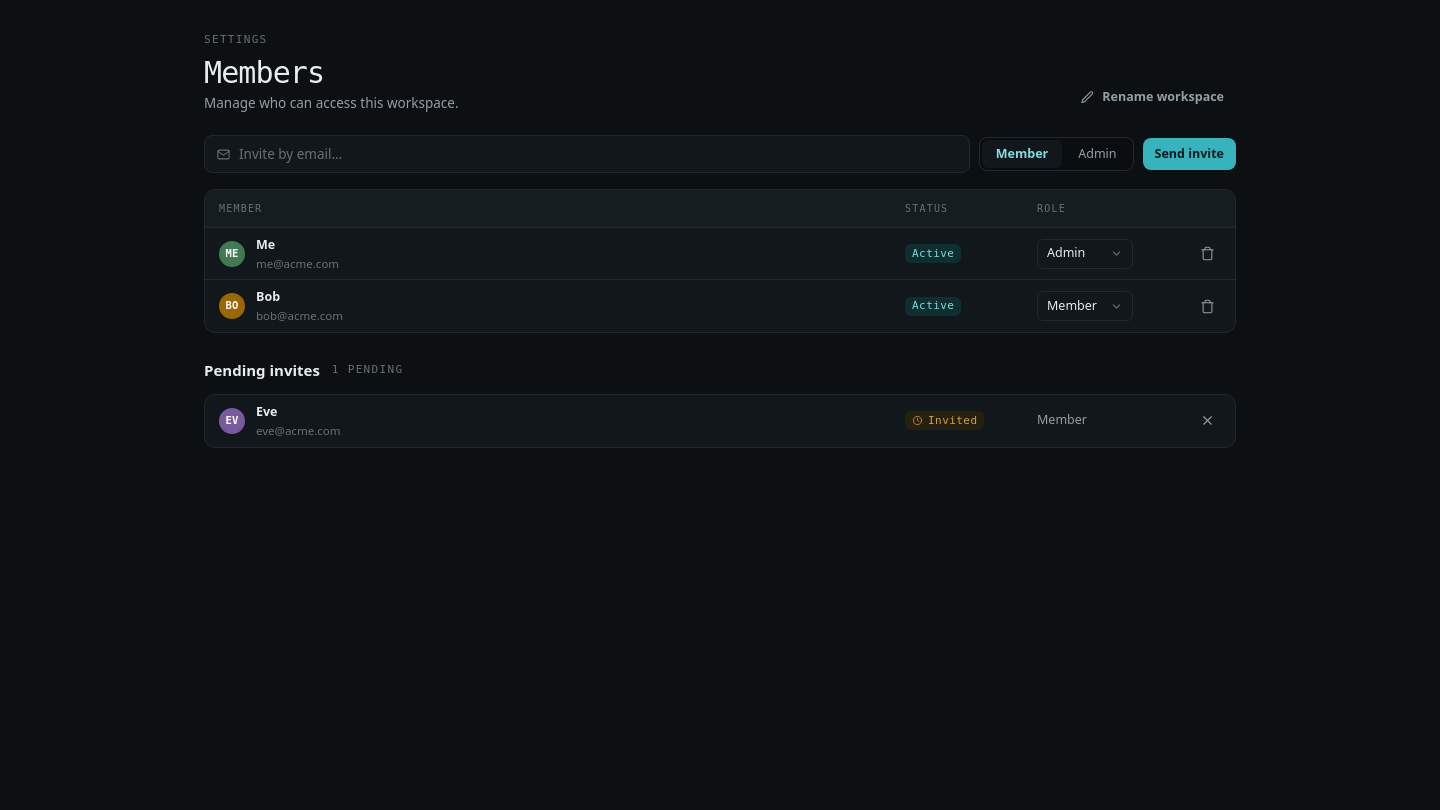
Test: workspaces-ui S-003 — members screen › AS-009: the admin removes a member (after confirming in the AlertDialog)
The width and height of the screenshot is (1440, 810).
Expected: the element with test id "member-row-u-bob" is shown, x1=205 y1=280 x2=1235 y2=332
The trash icon opens a confirm dialog — it does NOT delete on its own.
Click the button with test id "remove-u-bob".
click(1207, 306)  # box x1=1193 y1=292 x2=1221 y2=320
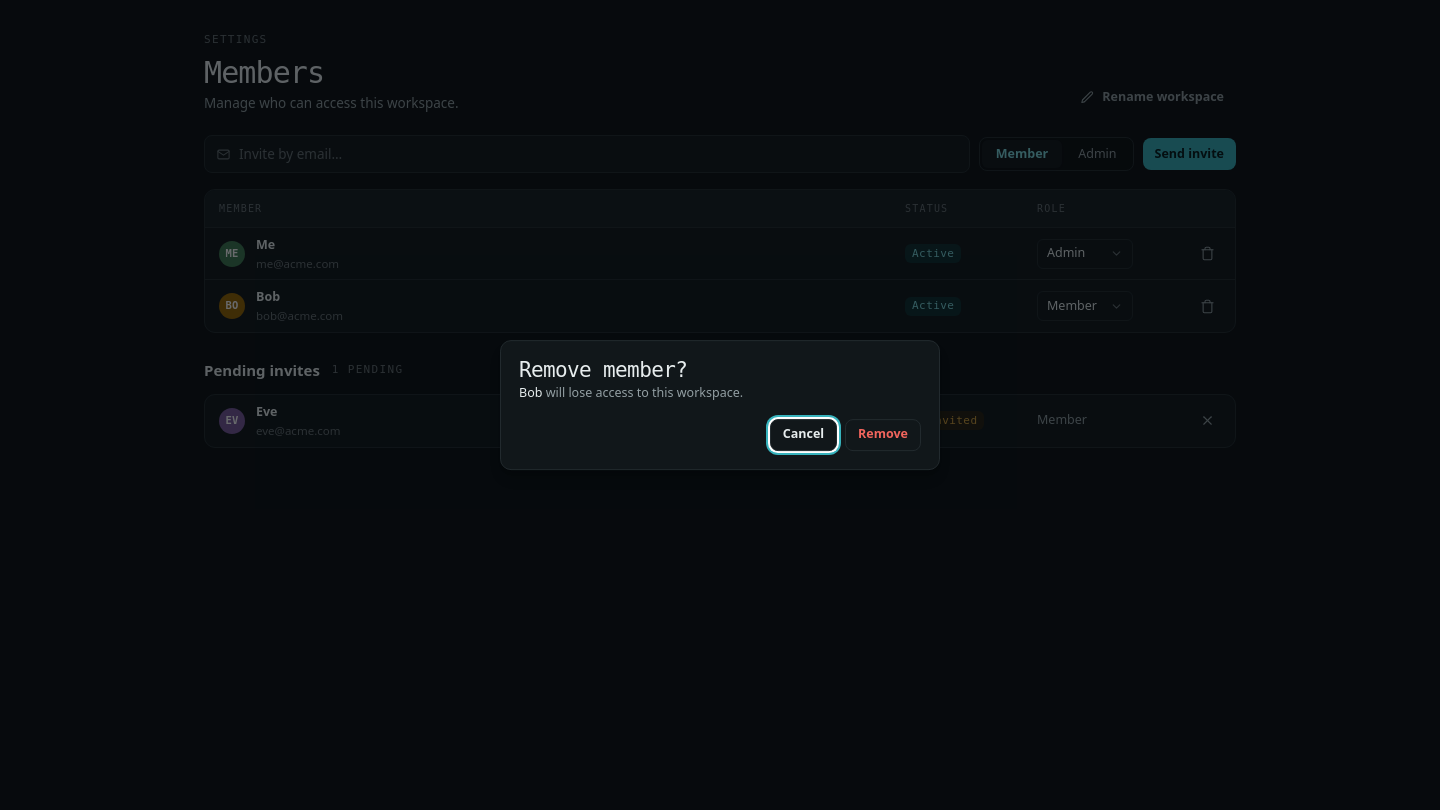
Only the destructive "Remove" action in the dialog runs the mutation.
Click the button with test id "remove-confirm-u-bob".
click(883, 435)  # box x1=845 y1=419 x2=921 y2=451
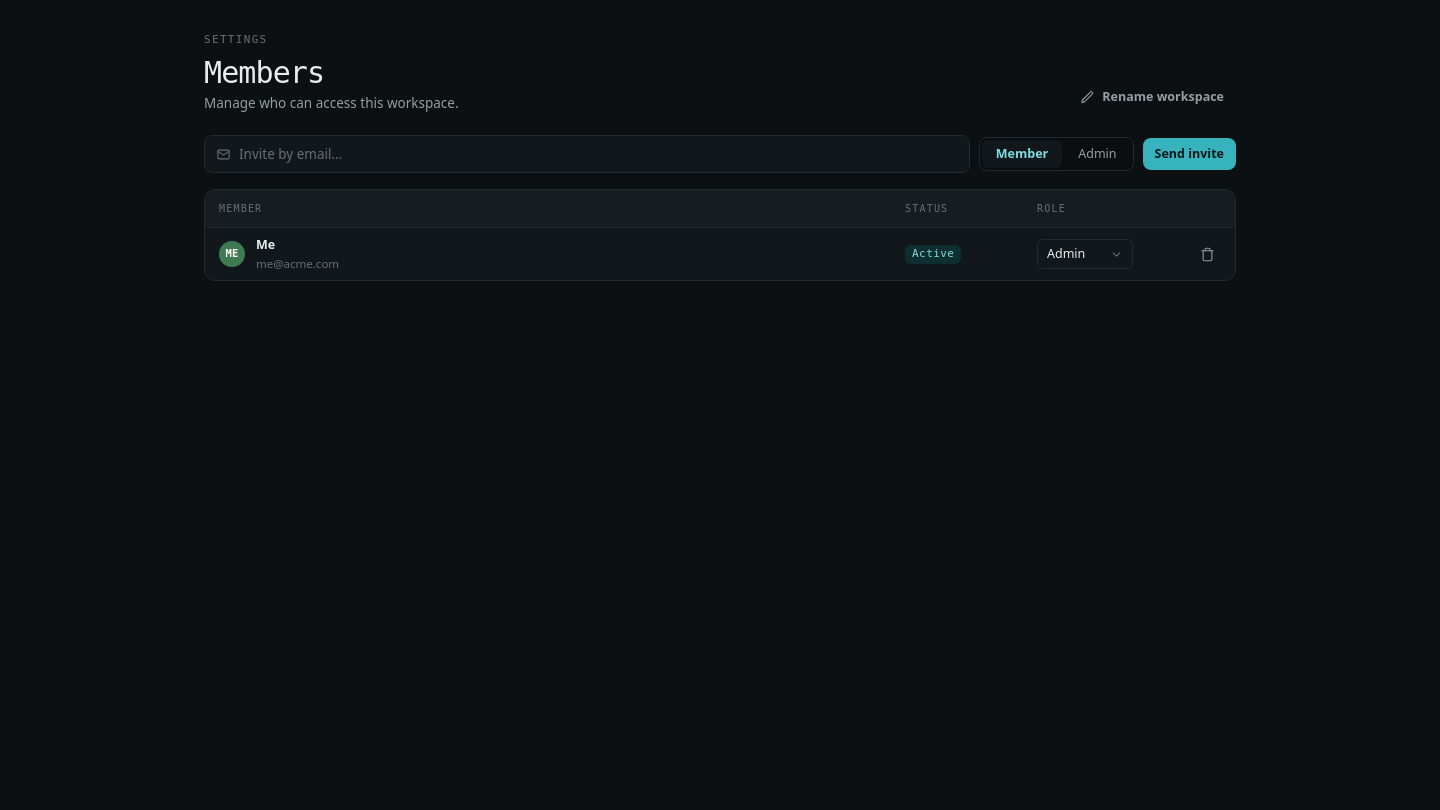
Expected: the element with test id "member-row-u-bob" is gone
